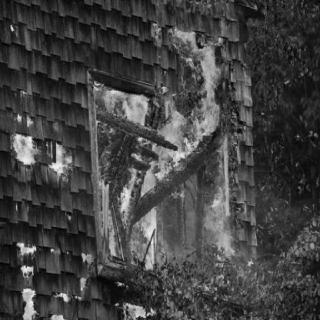Fire: (11, 230, 81, 318)
